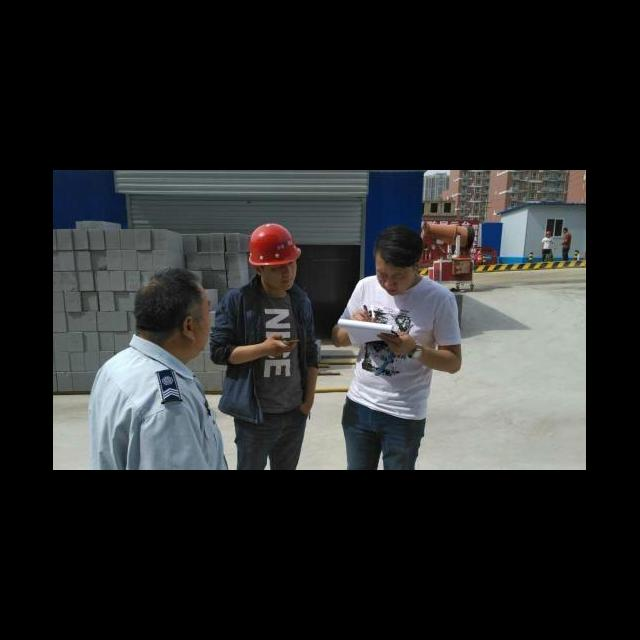Hardhat: (245, 222, 303, 266), (546, 231, 550, 234)
NO-Hardhat: (133, 265, 208, 315), (374, 225, 423, 267), (563, 227, 568, 230)
NO-Mask: (183, 317, 211, 358), (262, 271, 298, 287), (377, 276, 409, 290), (564, 231, 568, 234), (547, 236, 551, 238)
NO-Safety Vest: (91, 353, 227, 470), (352, 276, 433, 418), (231, 288, 308, 414), (544, 237, 553, 250), (564, 234, 571, 249)
Person: (335, 225, 462, 470), (89, 265, 229, 470), (212, 222, 321, 470), (542, 230, 554, 262), (561, 227, 572, 260)
